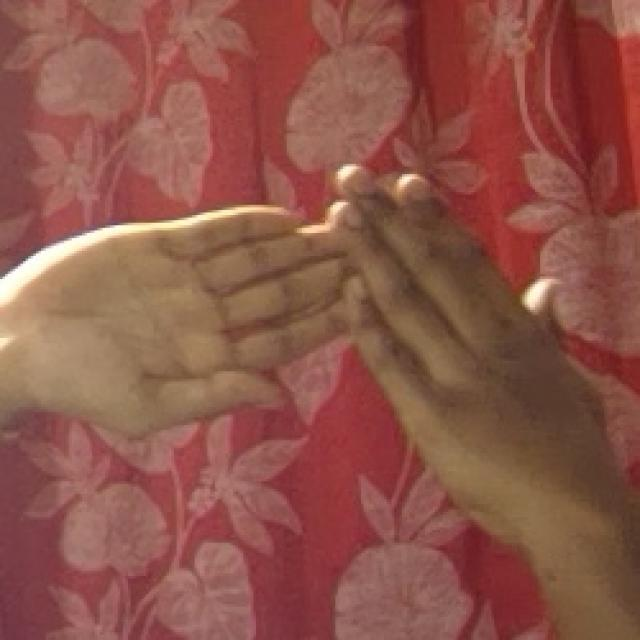Alphabet-H: (44, 156, 604, 545)
